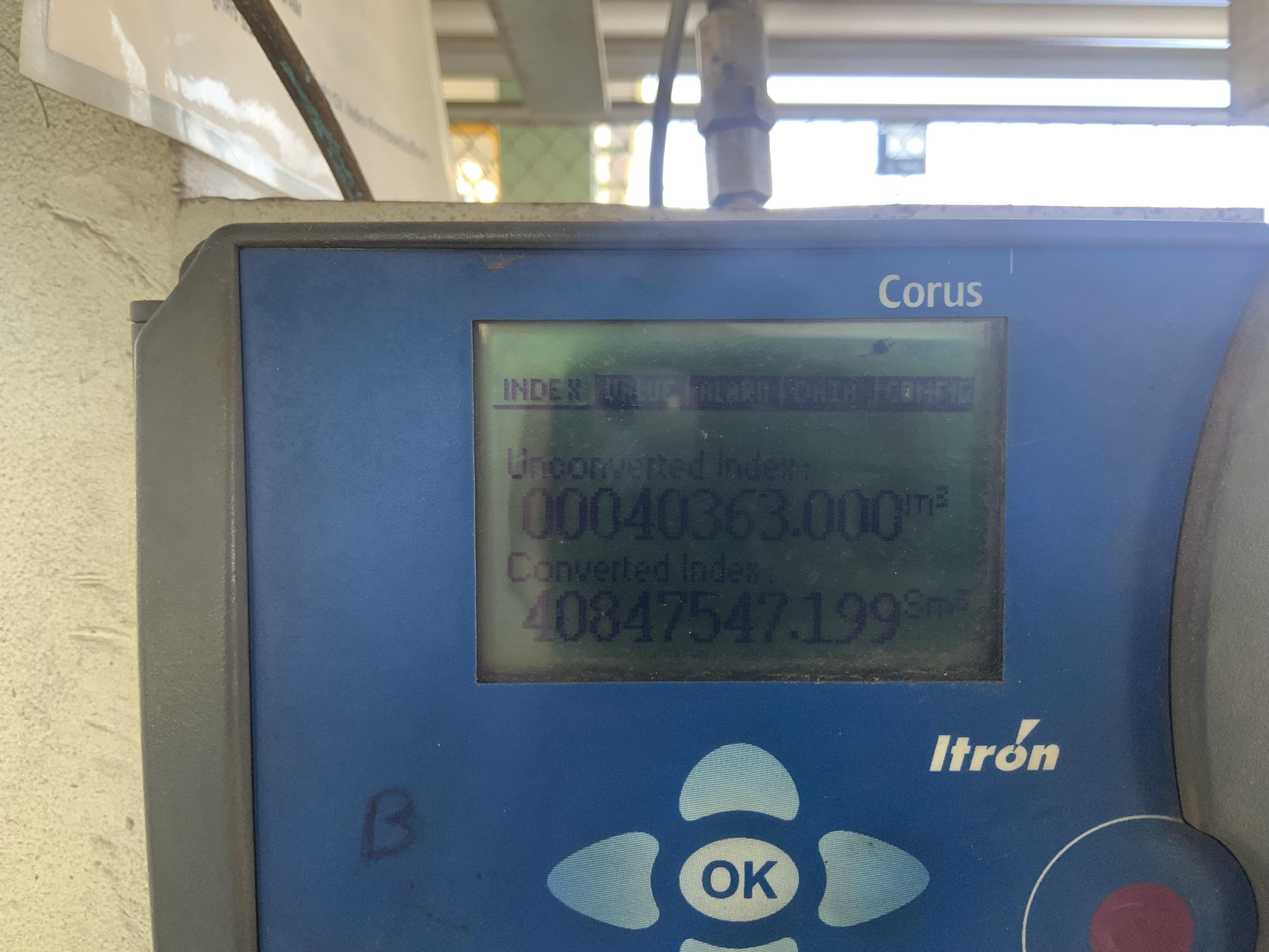digital_screen: (474, 317, 1010, 683)
